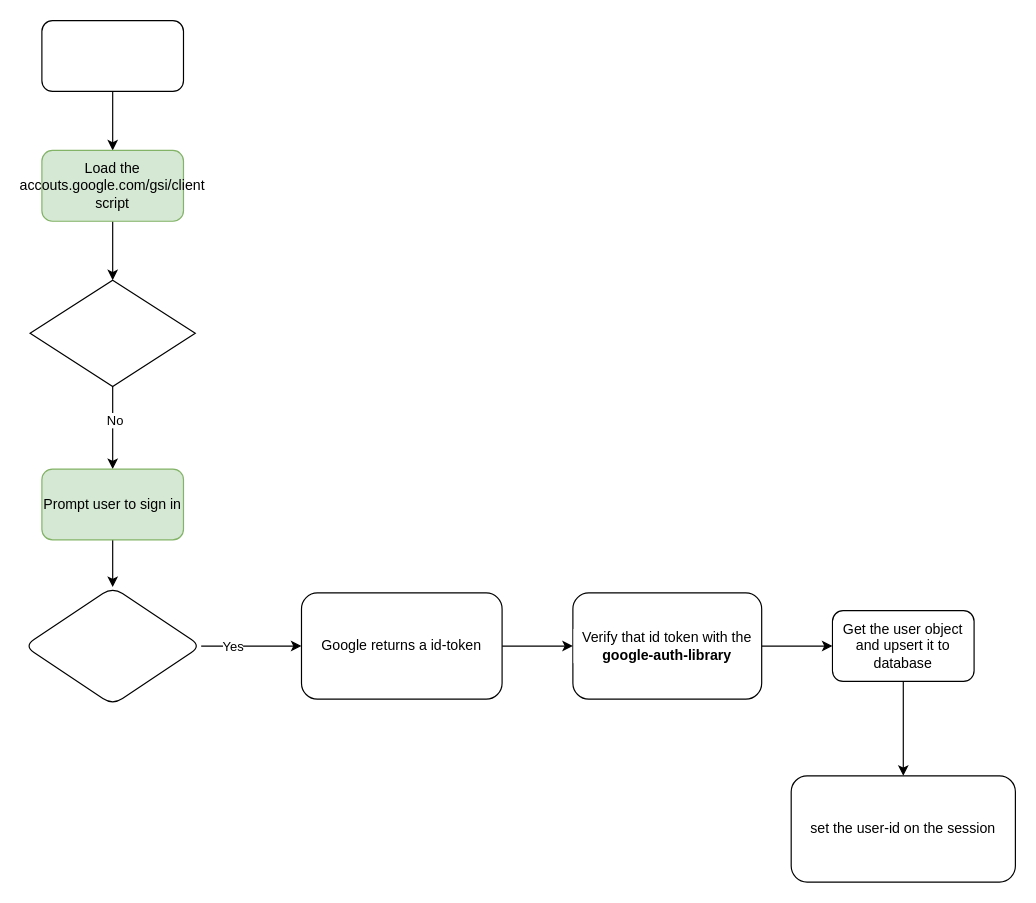
The diagram is 1036 pixels wide and 903 high, and some of its shapes have lost their labels. The box of each missing label's shape, as (x1, y1, x2, y2) in pixels:
Create OAuth 2.0 Client: (41, 19, 183, 91)
has active session?: (29, 279, 195, 386)
User signs in?: (23, 586, 201, 705)
